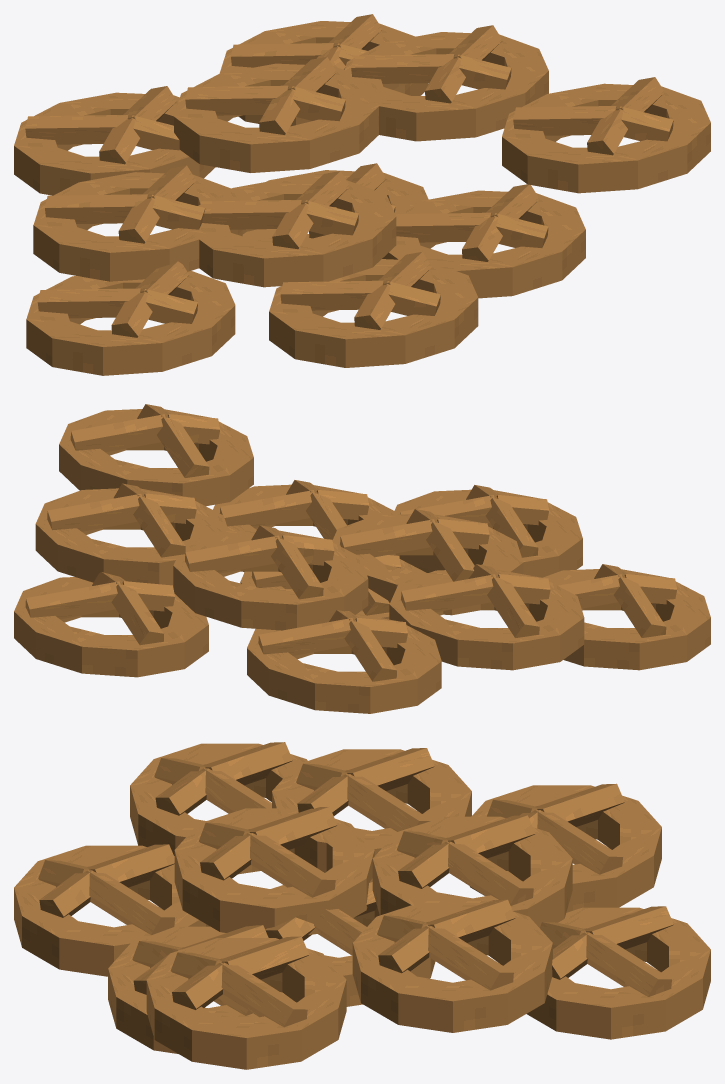
Rendered from pretzels.glb.
3 views of the same model, one above another, from view 1: azimuth 30°, elevation 25°; view 2: azimuth 150°, elevation 25°; view 3: azimuth 270°, elevation 25° (orthographic). The views are drawn at different scales.
Parts seen in each view (by area): view 1: block_crisp pretzel ring (×11), block_crossed pretzel dough 0 (×21), block_crossed pretzel dough 1 (×18); view 2: block_crisp pretzel ring (×11), block_crossed pretzel dough 0 (×21), block_crossed pretzel dough 1 (×10); view 3: block_crisp pretzel ring (×11), block_crossed pretzel dough 0 (×20), block_crossed pretzel dough 1 (×19).
Boxes of the visible parts, x1,y1,x2,y2 form: block_crisp pretzel ring (×11): (14, 21, 710, 375); block_crossed pretzel dough 0 (×21): (25, 14, 664, 318); block_crossed pretzel dough 1 (×18): (99, 54, 673, 337); block_crisp pretzel ring (×11): (14, 409, 710, 713); block_crossed pretzel dough 0 (×21): (25, 414, 666, 681); block_crossed pretzel dough 1 (×10): (122, 414, 676, 647); block_crisp pretzel ring (×11): (14, 743, 710, 1069); block_crossed pretzel dough 0 (×20): (86, 742, 673, 1027); block_crossed pretzel dough 1 (×19): (38, 758, 589, 1009).
Size of the model in its own units: 0.0833 by 0.0133 by 0.0682.
1 material, 1 textured.
